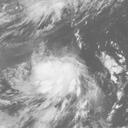cyclone: (22, 48, 83, 95)
